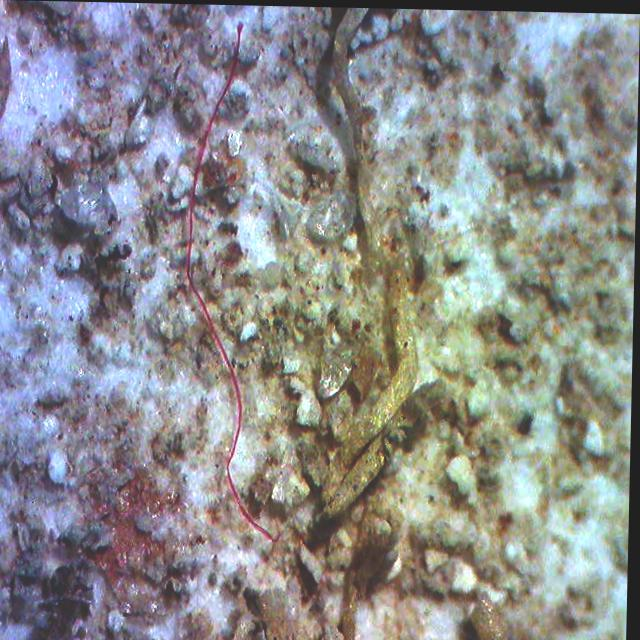microplastic: (189, 21, 283, 542)
